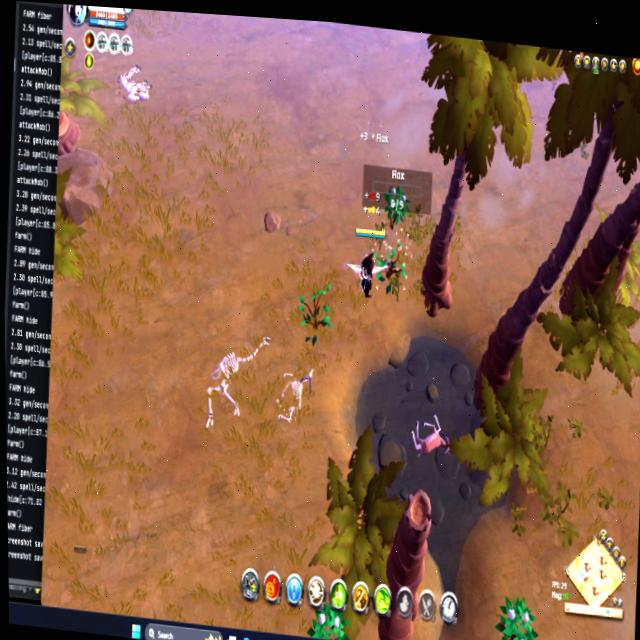hide: (496, 590, 538, 640), (307, 601, 351, 640), (384, 184, 410, 227)
mob: (405, 406, 456, 468)
red: (350, 222, 386, 301)
